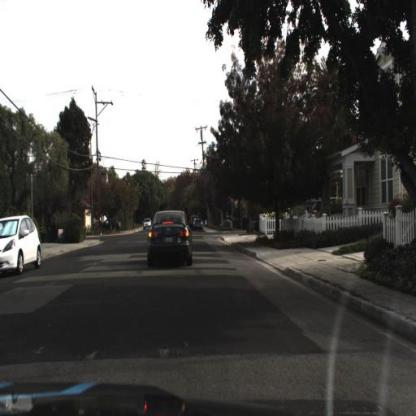car: (1, 204, 50, 283), (144, 202, 195, 270), (193, 218, 204, 233)
